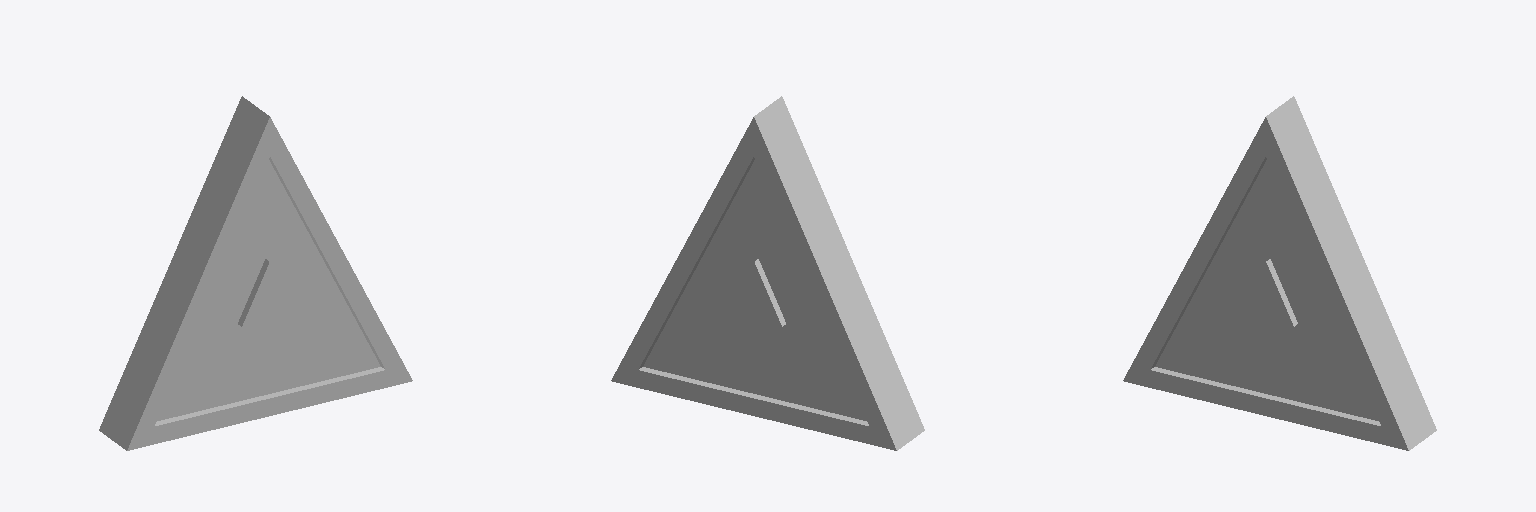
Rendered from triangle.obj.
The picture shows the model from 3 angles: view 1: azimuth 30°, elevation 25°; view 2: azimuth 150°, elevation 25°; view 3: azimuth 330°, elevation 25°; orthographic projection.
Visible parts, largest first — view 1: Cube_Cube.001; view 2: Cube_Cube.001; view 3: Cube_Cube.001.
Boxes of the visible parts, x1=… form: Cube_Cube.001: x1=99, y1=96, x2=412, y2=450; Cube_Cube.001: x1=611, y1=96, x2=924, y2=450; Cube_Cube.001: x1=1123, y1=96, x2=1436, y2=450.
Bounding box in the file's own units: 2 × 2 × 0.342.